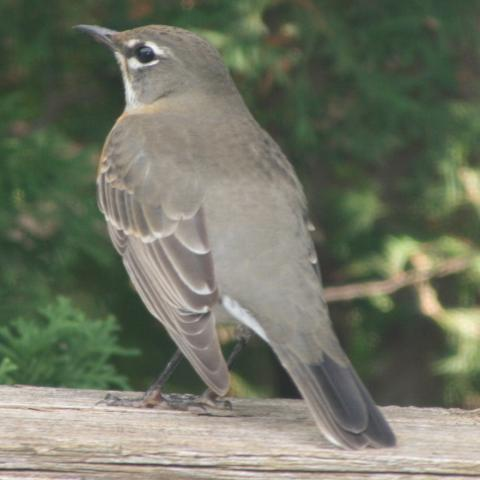bird: (70, 20, 399, 452)
